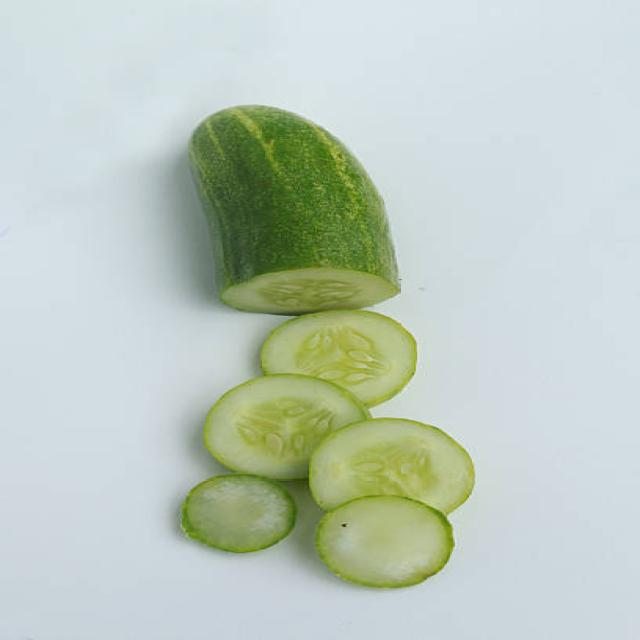cucumber: (188, 102, 400, 314)
